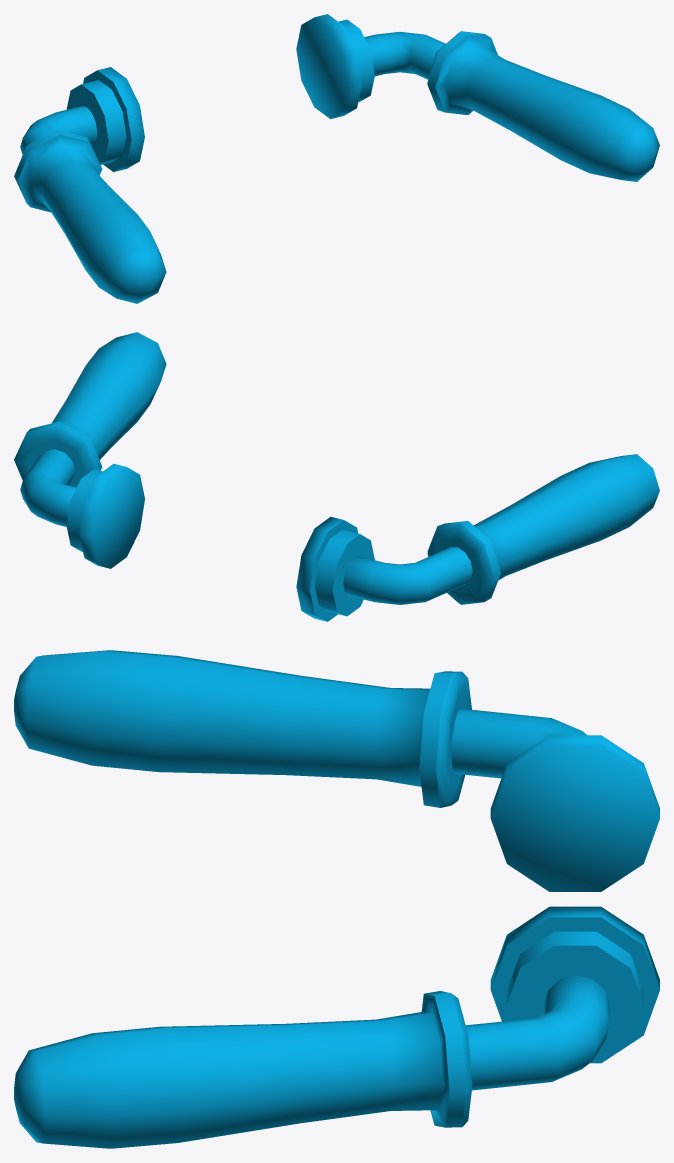
Rendered from Door_C_03_Handle.fbx.
The picture shows the model from 3 angles, top to bottom: view 1: azimuth 30°, elevation 25°; view 2: azimuth 150°, elevation 25°; view 3: azimuth 270°, elevation 25°; orthographic projection. The views are drawn at different scales.
Visible parts, largest first — view 1: Door_C_03_Handle; view 2: Door_C_03_Handle; view 3: Door_C_03_Handle.
Part boxes in pixels (x1,y1,x2,y2): Door_C_03_Handle: [14, 14, 659, 303]; Door_C_03_Handle: [14, 332, 659, 621]; Door_C_03_Handle: [14, 650, 659, 1148].
Size of the model in its own units: 23.45 by 3.66 by 14.67.
